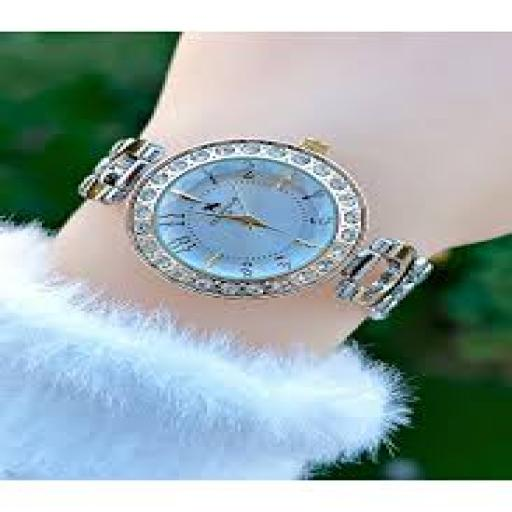KolSaati: (68, 100, 467, 348)
